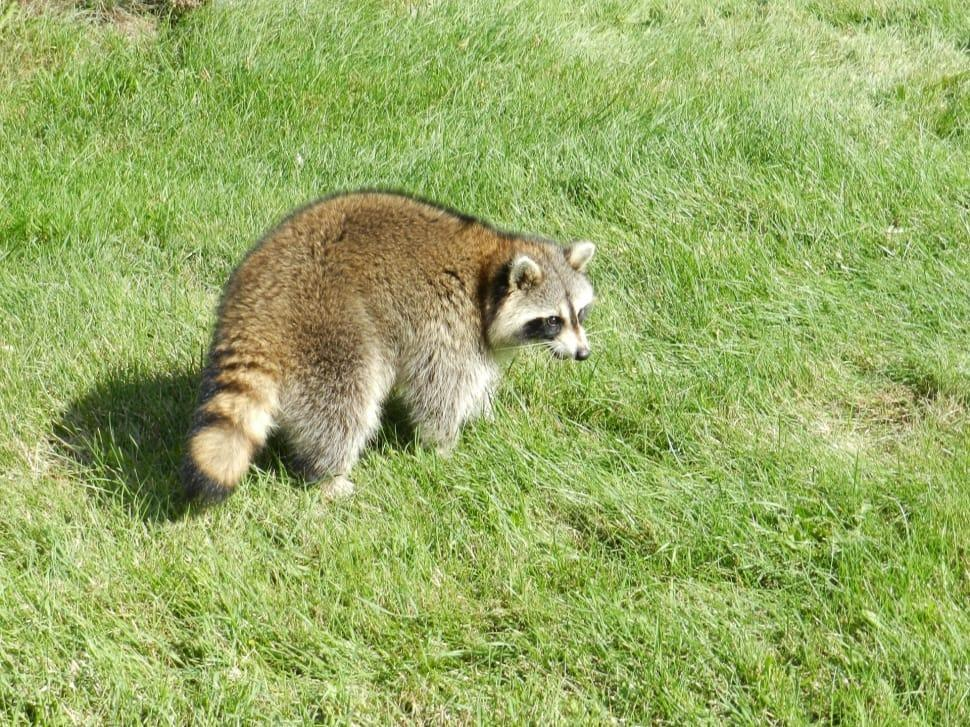raccoon: (187, 187, 593, 502)
